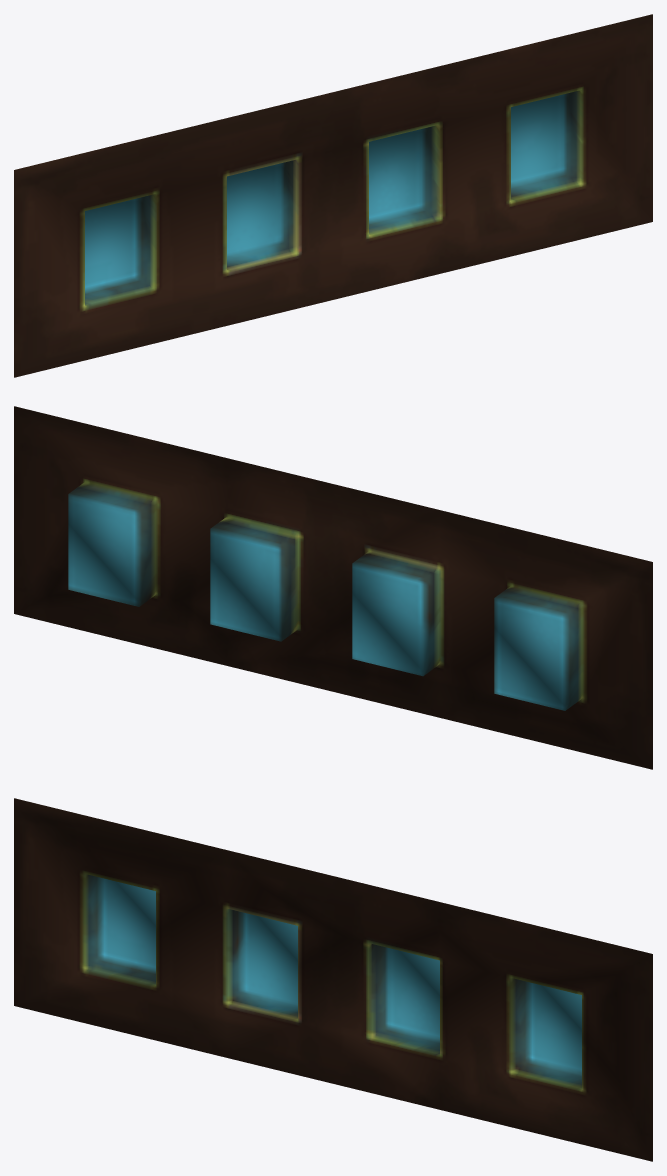
The model's file is sn_jiguan_dici_001.FBX.
3 views of the same model, one above another, from view 1: azimuth 30°, elevation 25°; view 2: azimuth 150°, elevation 25°; view 3: azimuth 330°, elevation 25° (orthographic).
Visible parts, largest first — view 1: sn_jiguan_dici_001; view 2: sn_jiguan_dici_001; view 3: sn_jiguan_dici_001.
Part boxes in pixels (<box>): sn_jiguan_dici_001: <box>14,14,652,377</box>; sn_jiguan_dici_001: <box>14,406,652,769</box>; sn_jiguan_dici_001: <box>14,798,652,1161</box>.
Bounding box in the file's own units: 297 × 92.42 × 13.5.
